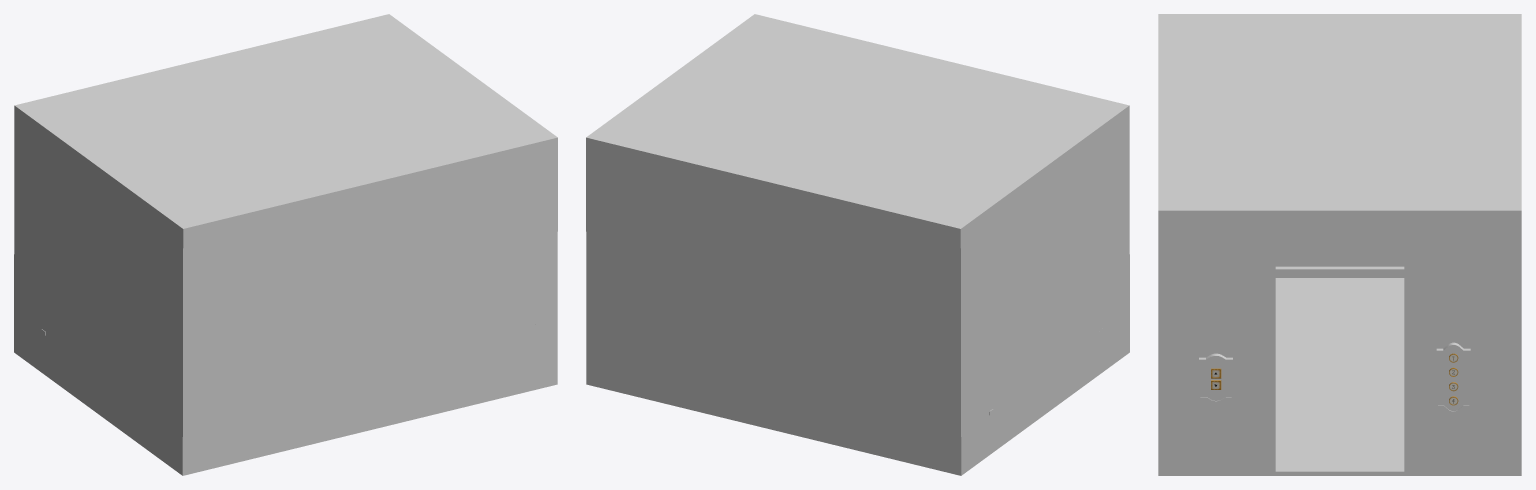
Rendered from Elevator.fbx.
3 renders of one model, left to right at view 1: azimuth 30°, elevation 25°; view 2: azimuth 150°, elevation 25°; view 3: azimuth 270°, elevation 25°, orthographic. The views are drawn at different scales.
Parts seen in each view (by area): view 1: Box2854, Box2856, Box2867; view 2: Box2854, Box2867, Box2857; view 3: Box2854, Box2867, Box2872, Object772, Box2871, Box2862.
Boxes of the visible parts, <box> form: Box2854: <box>14,14,557,471</box>; Box2856: <box>535,184,550,385</box>; Box2867: <box>14,348,557,475</box>; Box2854: <box>586,14,1129,471</box>; Box2867: <box>586,348,1129,475</box>; Box2857: <box>593,184,608,299</box>; Box2854: <box>1158,14,1521,471</box>; Box2867: <box>1158,278,1521,475</box>; Box2872: <box>1436,342,1470,413</box>; Object772: <box>1275,266,1404,277</box>; Box2871: <box>1199,353,1232,402</box>; Box2862: <box>1275,259,1404,266</box>.
Size of the model in its own units: 98.31 by 60.99 by 75.57.
